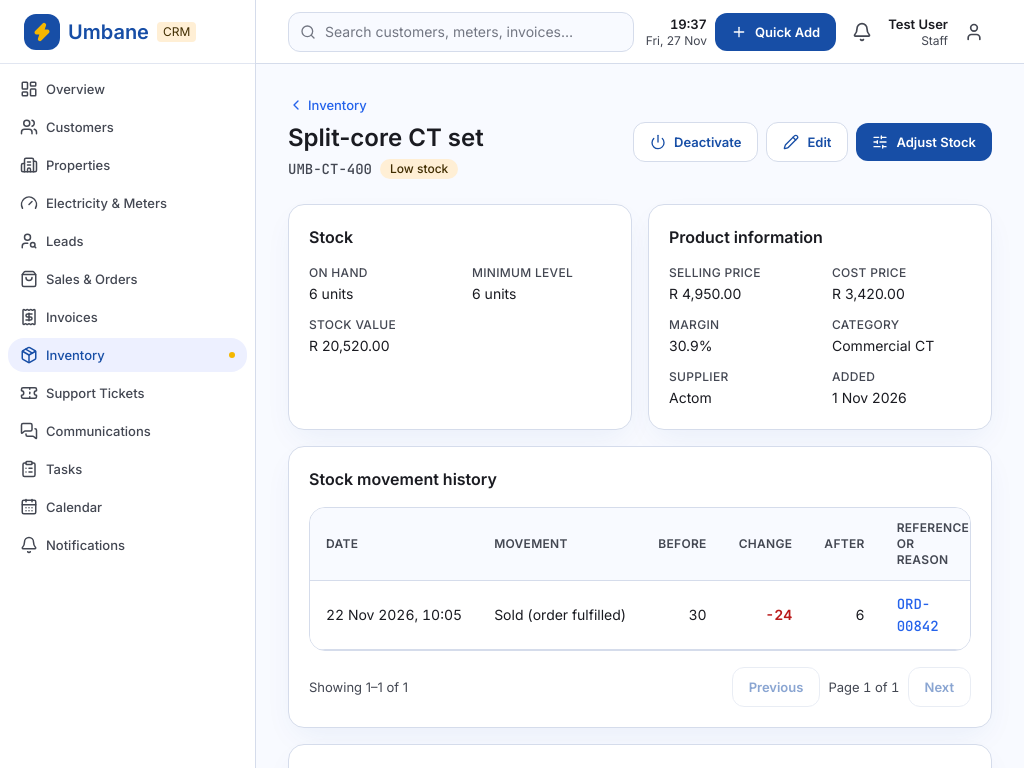
Test: products › deactivates instead of deleting
What coordinates should you click on to do the following:
click the button "Deactivate"
I would click on:
 (696, 142)
Its box is [633,122,758,162].
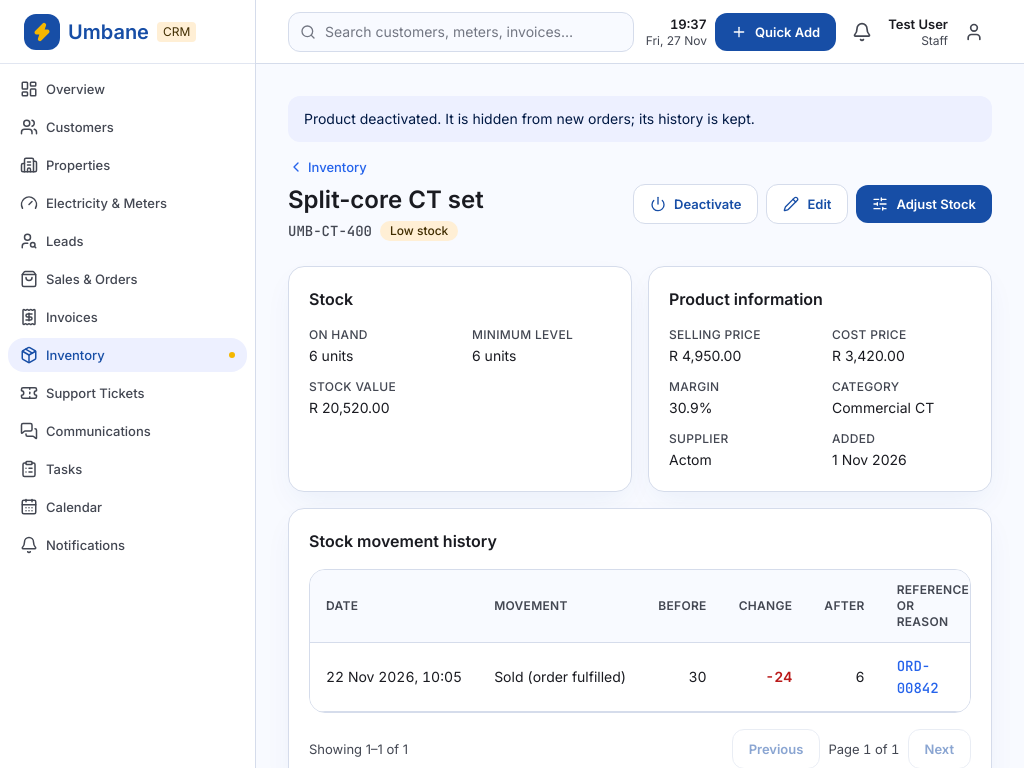
Check: the text "Product deactivated. It is hidden from new orders; its history is kept." is shown, box [288,96,992,142]
